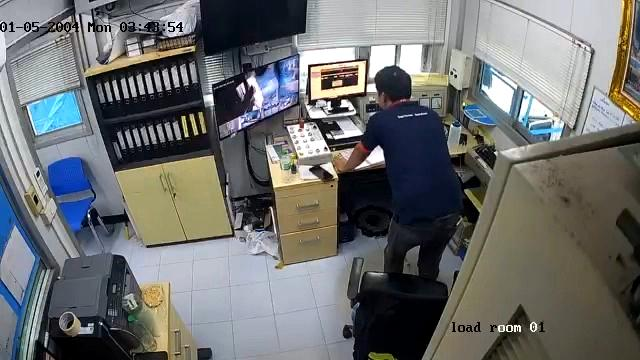Head: (373, 66, 412, 102)
People: (339, 66, 463, 268)
Phone: (308, 165, 335, 182)
